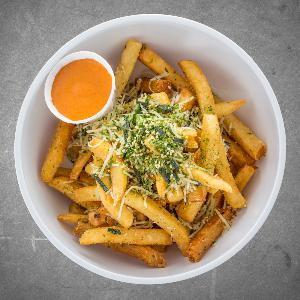fries: (50, 122, 265, 259)
